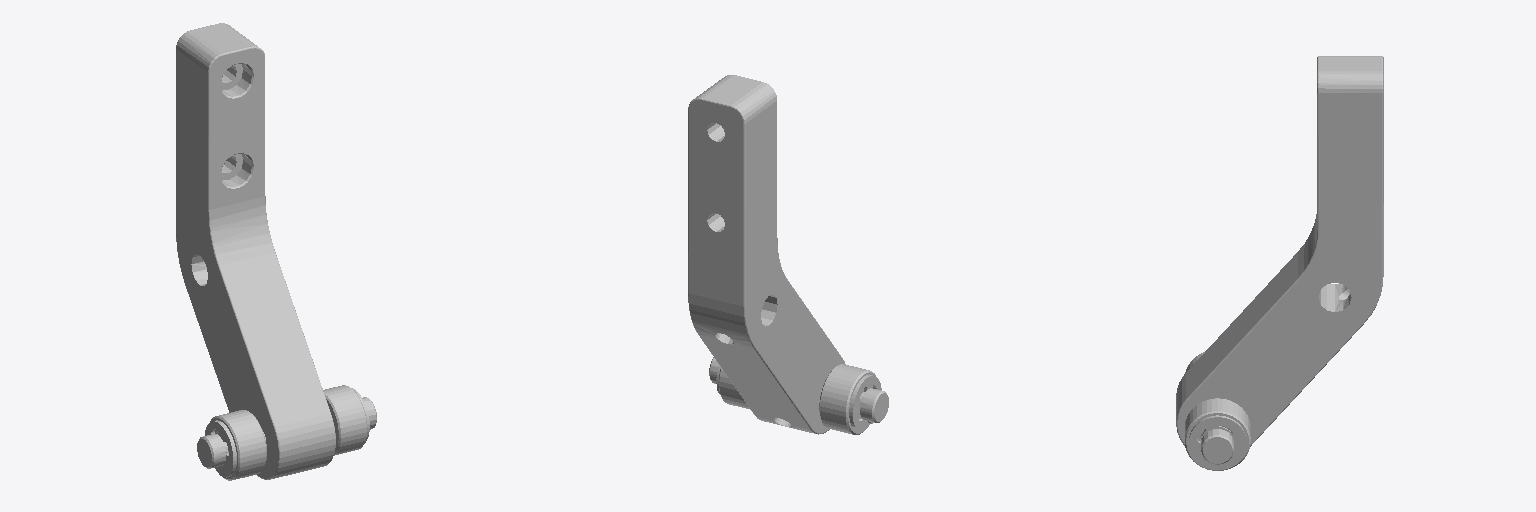
3 views of the same model, side by side, from view 1: azimuth 30°, elevation 25°; view 2: azimuth 150°, elevation 25°; view 3: azimuth 270°, elevation 25° (orthographic).
Parts seen in each view (by area): view 1: Left_up_Link; view 2: Left_up_Link; view 3: Left_up_Link.
Part boxes in pixels (x1,y1,x2,y2): Left_up_Link: (176,23,376,480); Left_up_Link: (688,75,888,434); Left_up_Link: (1176,56,1383,470).
Size of the model in its own units: 0.023 by 0.051 by 0.025.